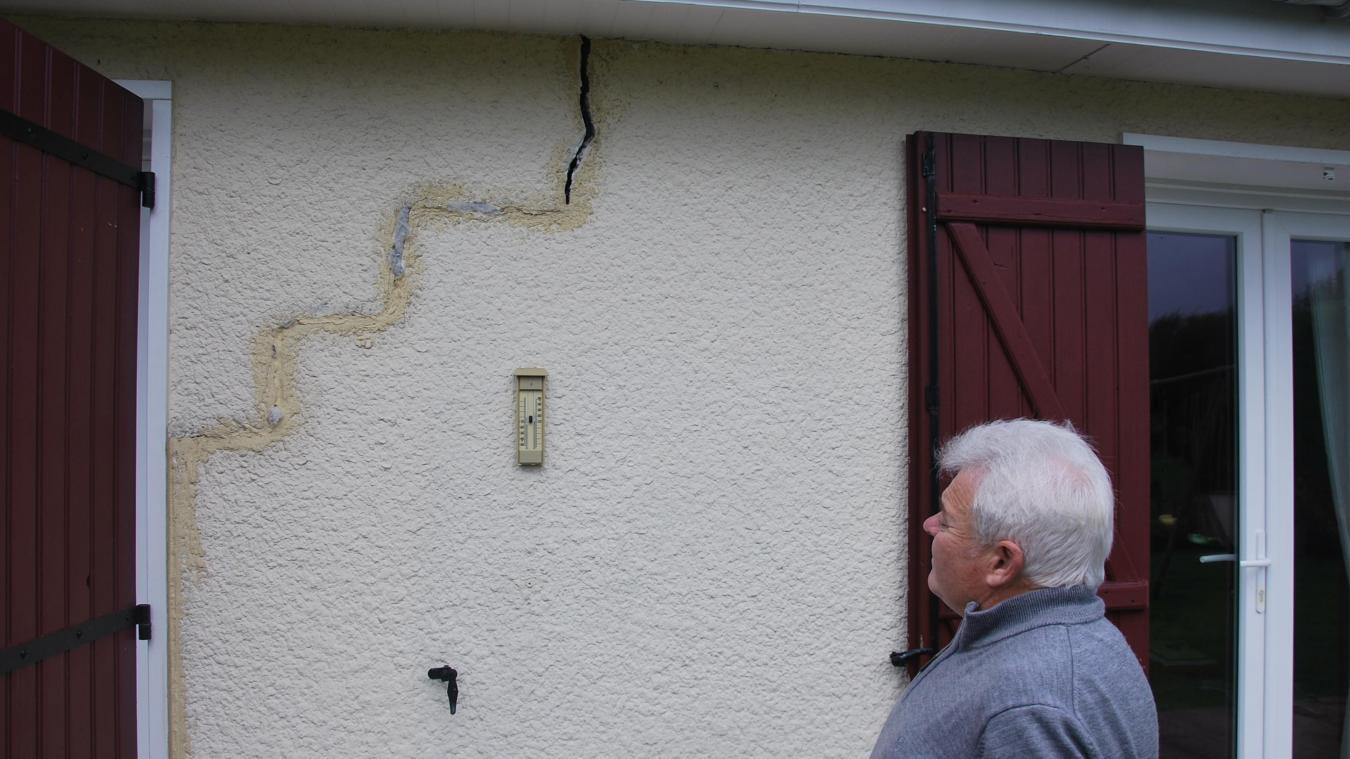crack: (563, 33, 595, 205)
